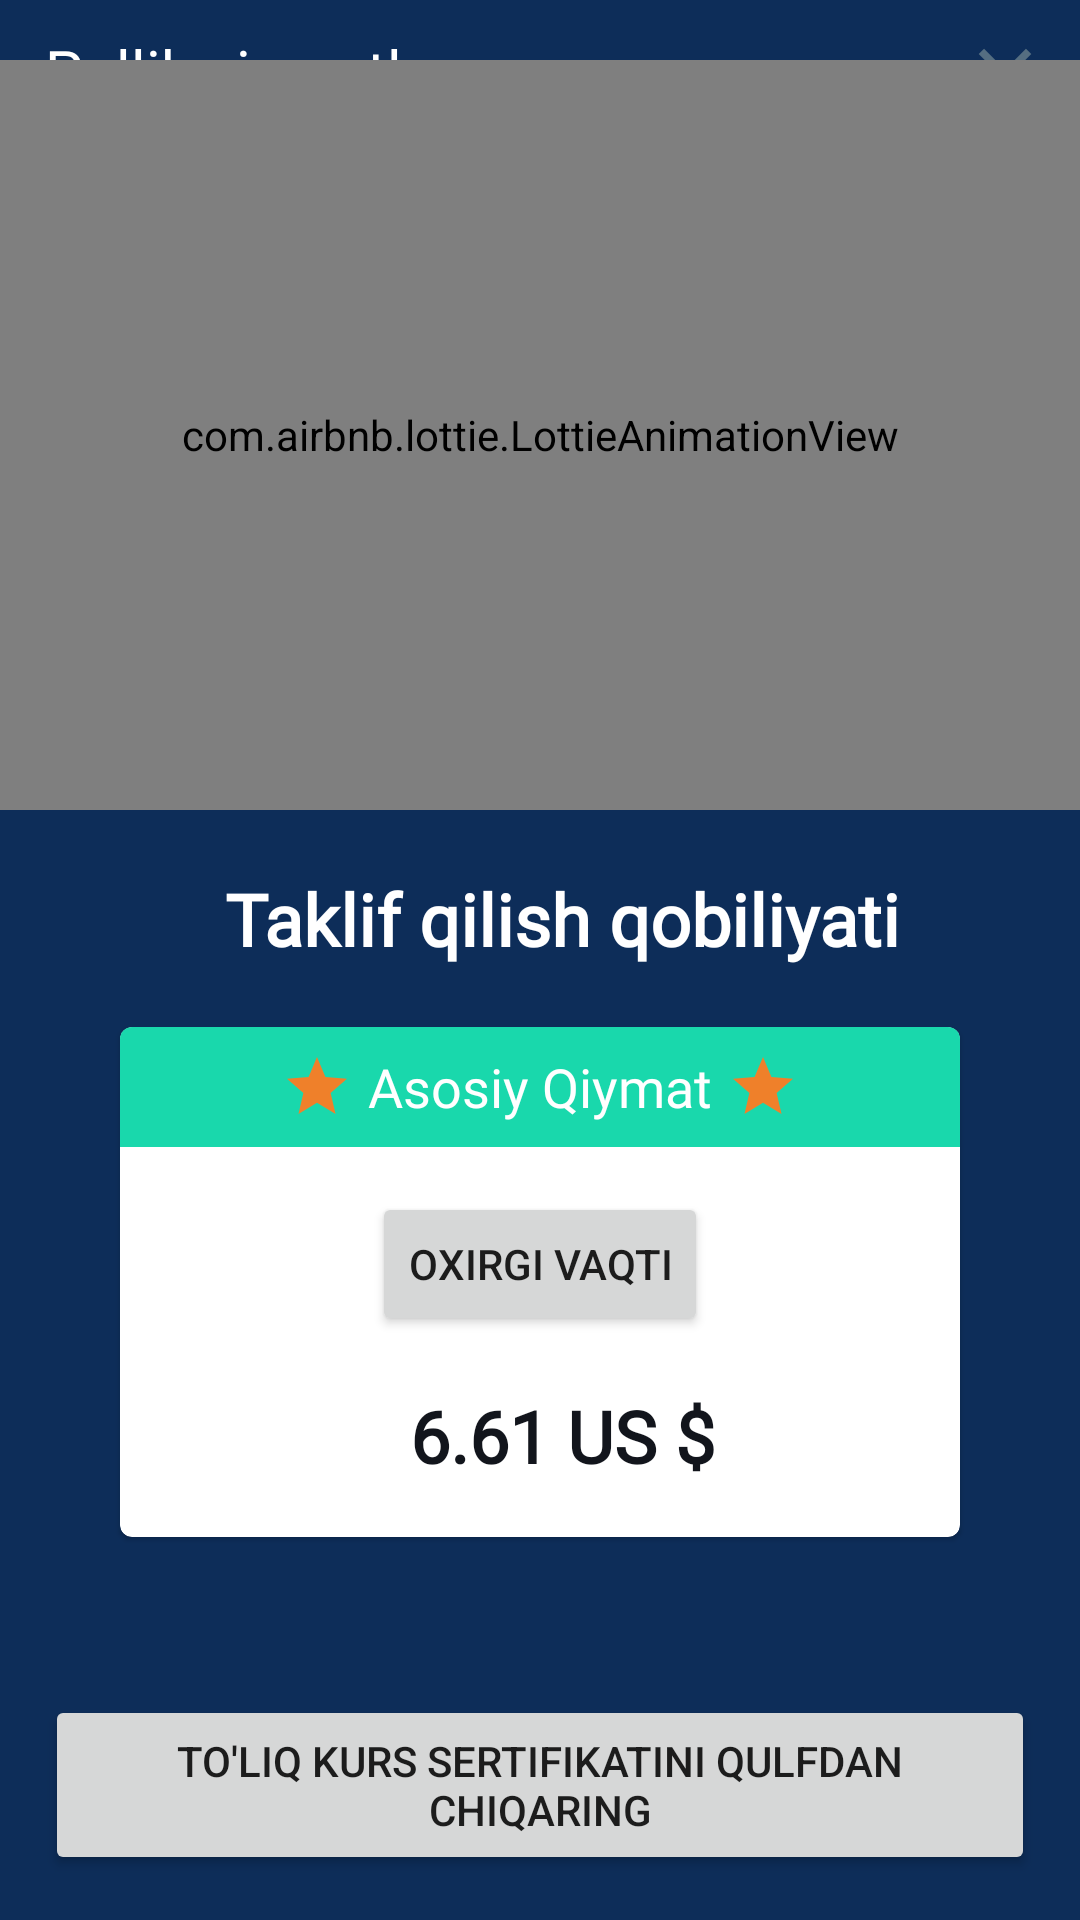

Locate icon controls on the screen. Image size 1080px×1920px, boxes as box(x1, y1, x2, y2).
star: box(287, 1057, 347, 1114), box(733, 1057, 793, 1114)
